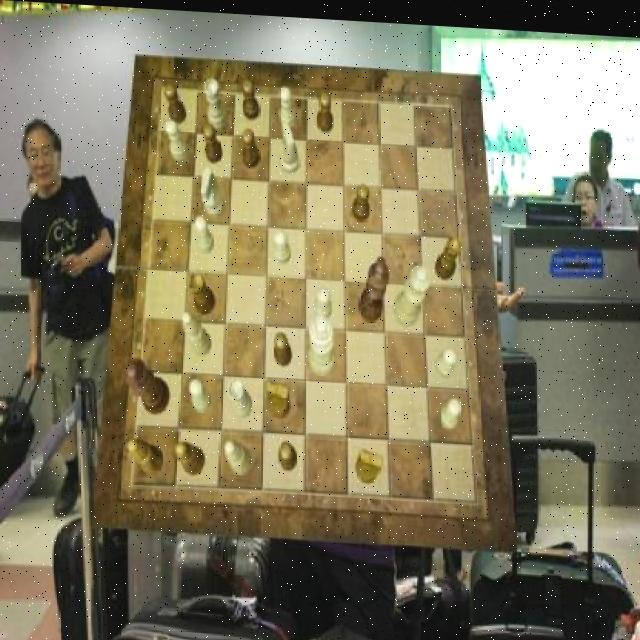bishop: (126, 437, 162, 473), (176, 439, 206, 474)
black-bishop: (358, 251, 391, 318)
black-king: (357, 444, 385, 480), (266, 377, 290, 416)
black-knight: (165, 82, 187, 123), (204, 121, 223, 161), (242, 125, 259, 166), (242, 77, 259, 118), (317, 89, 334, 130), (352, 180, 370, 218), (274, 328, 291, 363), (278, 439, 298, 468)
black-pawn: (126, 355, 171, 413)
black-queen: (436, 230, 462, 276), (189, 269, 216, 312)
black-rook: (182, 310, 212, 355), (224, 437, 252, 472)
white-bishop: (309, 310, 336, 373)
white-king: (200, 165, 225, 215), (280, 119, 300, 173)
white-knight: (166, 117, 189, 160), (189, 376, 212, 411), (440, 391, 462, 425), (435, 342, 458, 374), (280, 84, 297, 126), (196, 214, 214, 252), (274, 227, 291, 262), (314, 284, 331, 317)
white-pawn: (394, 257, 431, 321)
white-queen: (205, 76, 228, 128), (229, 377, 254, 417)
